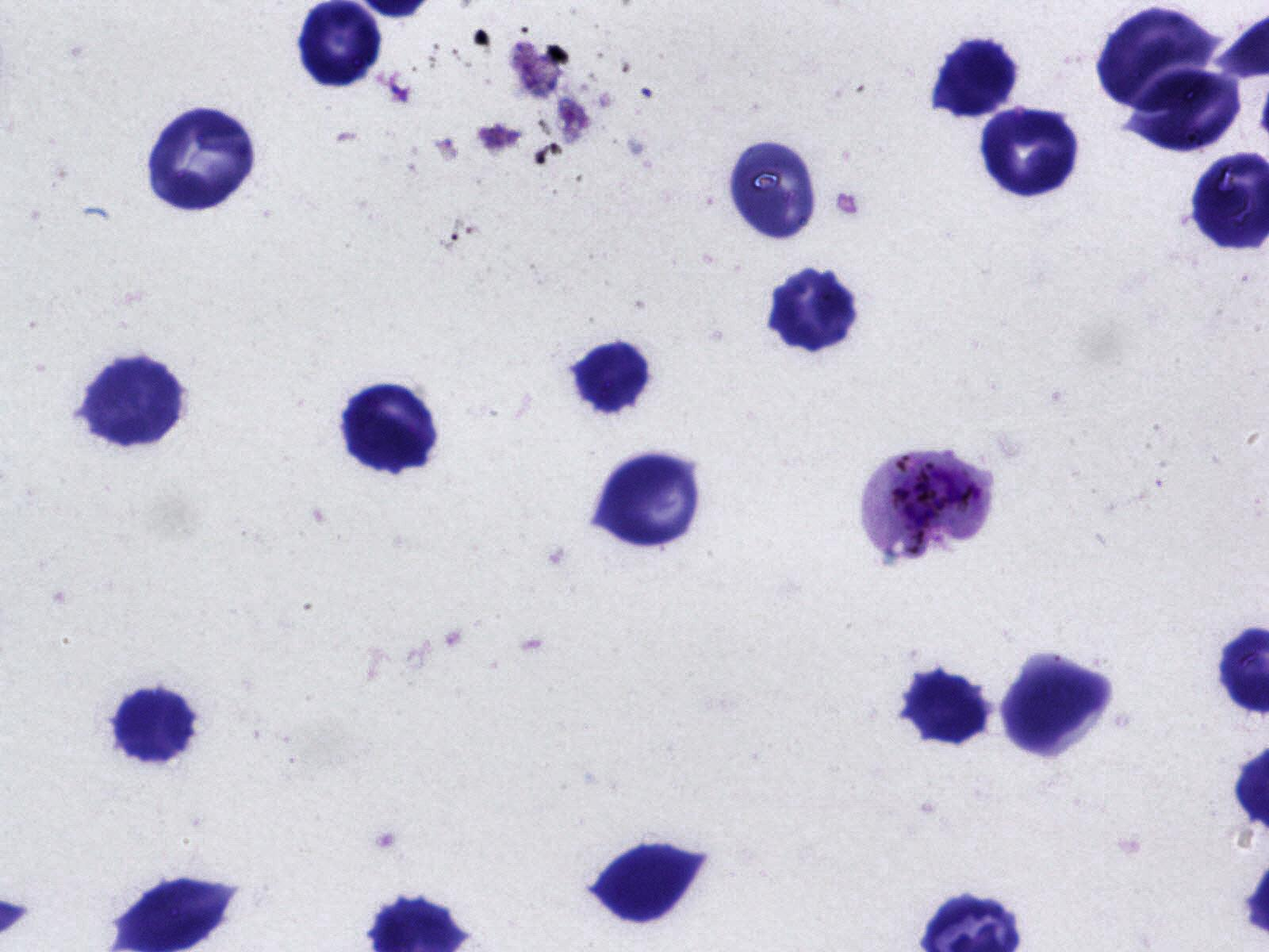Infected: (864, 447, 998, 558)
Uninfected: (1098, 6, 1215, 111), (148, 108, 255, 210), (588, 456, 701, 551), (1003, 659, 1110, 758), (79, 356, 186, 447), (983, 104, 1083, 201), (592, 844, 701, 926), (1130, 71, 1238, 152), (729, 143, 819, 240), (343, 383, 438, 468), (769, 267, 859, 354), (299, 0, 383, 88), (112, 687, 199, 768), (935, 38, 1022, 119), (903, 669, 991, 746), (572, 336, 654, 415)
